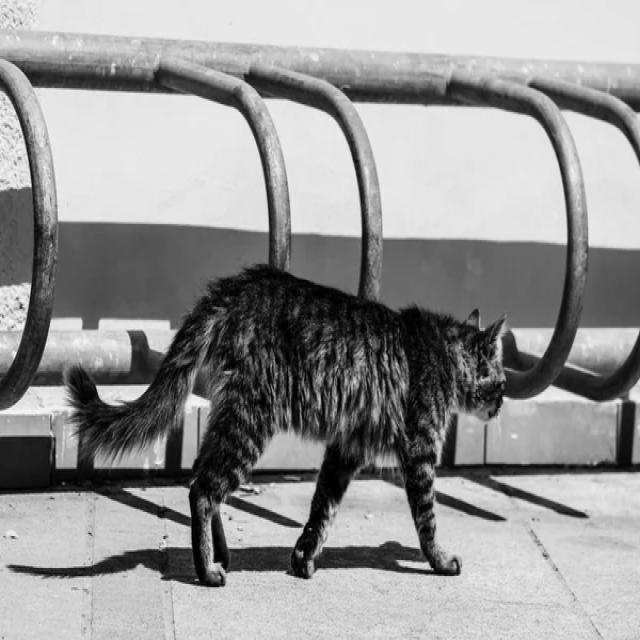Animal: (64, 266, 506, 586)
